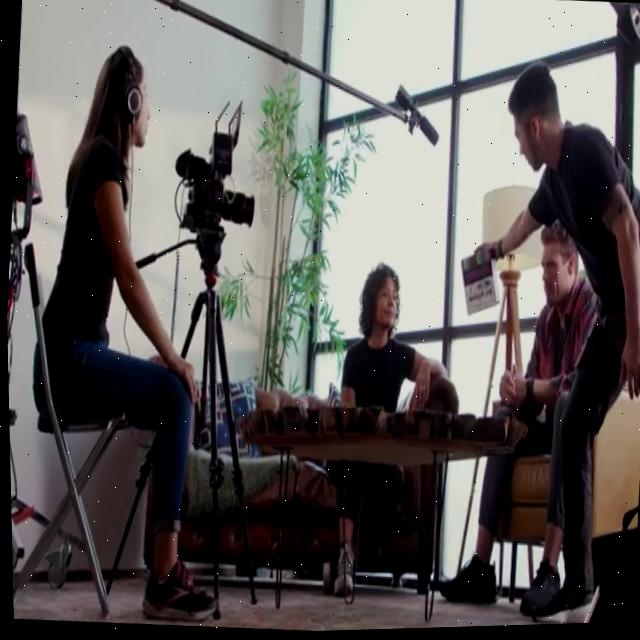Clapperboard: (461, 252, 498, 316)
